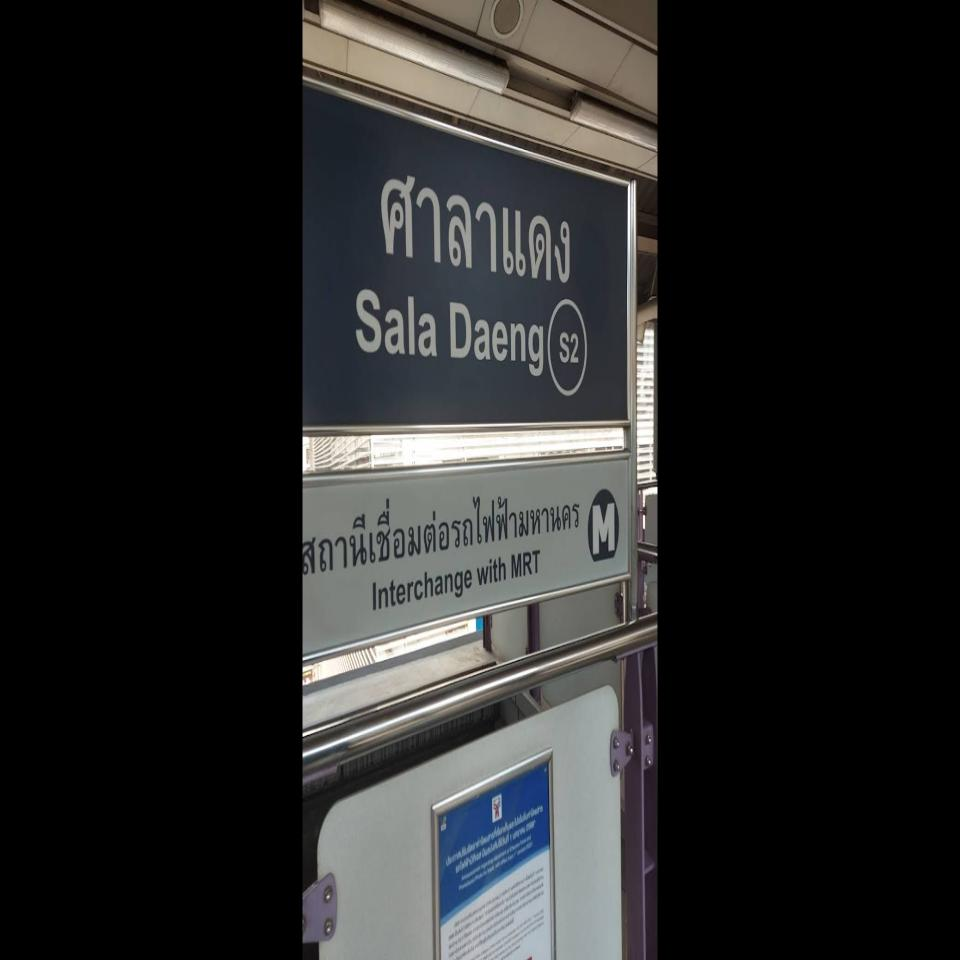signage: (302, 71, 632, 434)
